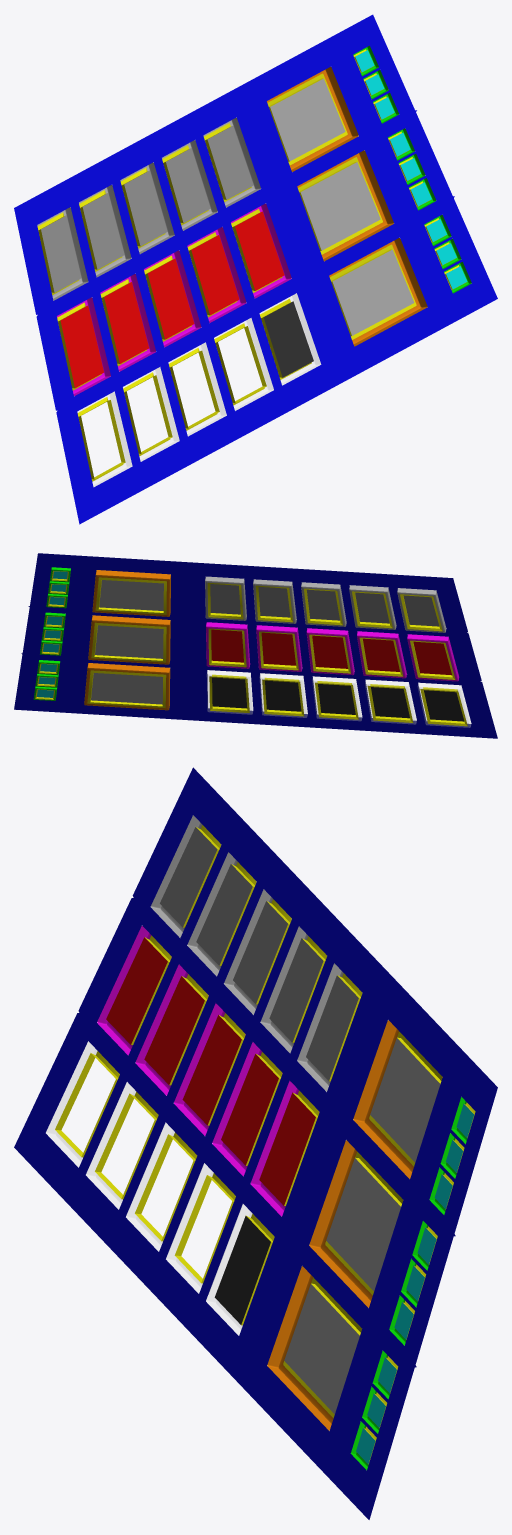
The picture shows the model from 3 angles, top to bottom: view 1: azimuth 30°, elevation 25°; view 2: azimuth 150°, elevation 25°; view 3: azimuth 270°, elevation 25°; orthographic projection. The views are drawn at different scales.
Visible parts, largest first — view 1: Base, IconModule, IconTekosB, IconTekosA, BaseModule, BaseTekosB, BaseTekosA, BaseC, IconWarning, IconTekosC, BaseWarning, polySurface751 (+6 smaller); view 2: Base, IconModule, IconTekosB, IconTekosC, IconTekosA, BaseModule, BaseTekosB, BaseTekosA, BaseC, BaseWarning, IconWarning, polySurface750 (+17 smaller); view 3: Base, IconModule, IconTekosB, IconTekosA, BaseModule, BaseTekosB, BaseTekosA, BaseC, IconWarning, IconTekosC, BaseWarning, polySurface780 (+4 smaller).
Boxes of the visible parts, box(x1,y1,x2,y2) form: Base: box(14, 14, 497, 524); IconModule: box(270, 78, 414, 335); IconTekosB: box(60, 211, 284, 388); IconTekosA: box(41, 126, 253, 292); BaseModule: box(266, 66, 427, 346); BaseTekosB: box(56, 203, 291, 395); BaseTekosA: box(37, 117, 260, 300); BaseC: box(78, 294, 320, 486); IconWarning: box(355, 50, 467, 289); IconTekosC: box(263, 301, 313, 377); BaseWarning: box(353, 45, 471, 293); polySurface751: box(329, 244, 416, 339); Base: box(14, 553, 497, 738); IconModule: box(91, 580, 163, 704); IconTekosB: box(211, 629, 451, 675); IconTekosC: box(212, 677, 464, 721); IconTekosA: box(210, 584, 439, 626); BaseModule: box(84, 570, 170, 710); BaseTekosB: box(206, 622, 459, 681); BaseTekosA: box(205, 576, 446, 632); BaseC: box(207, 670, 470, 727); BaseWarning: box(33, 567, 70, 700); IconWarning: box(36, 571, 67, 697); polySurface750: box(91, 622, 166, 662); Base: box(14, 767, 497, 1519); IconModule: box(284, 1038, 440, 1414); IconTekosB: box(106, 937, 315, 1205); IconTekosA: box(160, 827, 358, 1080); BaseModule: box(267, 1020, 442, 1430); BaseTekosB: box(97, 926, 319, 1216); BaseTekosA: box(151, 815, 362, 1091); BaseC: box(46, 1042, 251, 1334); IconWarning: box(356, 1103, 474, 1464); IconTekosC: box(214, 1216, 270, 1324); BaseWarning: box(351, 1097, 475, 1470); polySurface780: box(135, 1132, 197, 1241).
Bounding box in the file's own units: 323 × 153 × 177.
